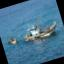fishing boat: (17, 8, 60, 44)
